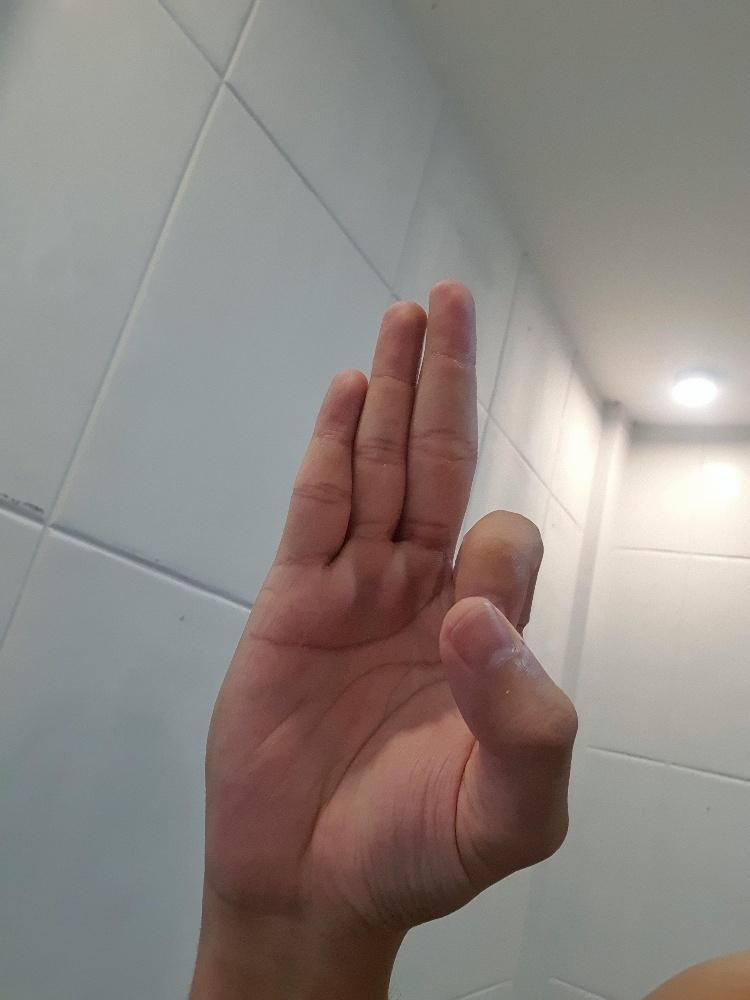f: (199, 276, 581, 934)
